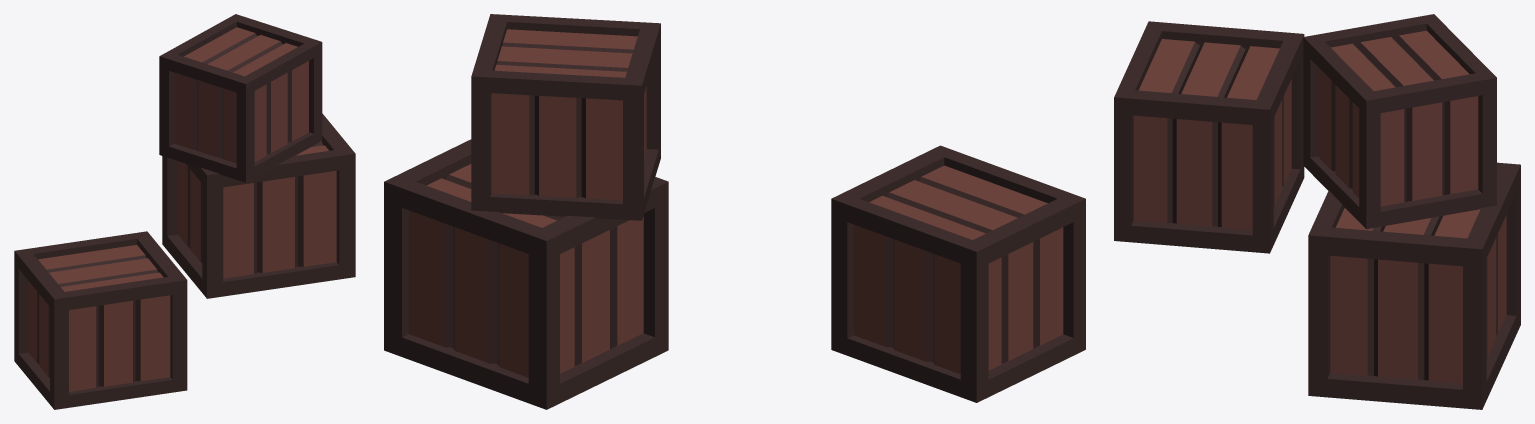
File: oldseamanroom3.fbx
3 renders of one model, left to right at view 1: azimuth 30°, elevation 25°; view 2: azimuth 150°, elevation 25°; view 3: azimuth 270°, elevation 25°, orthographic. The views are drawn at different scales.
Visible parts, largest first — view 1: oldseamanroom3; view 2: oldseamanroom3; view 3: oldseamanroom3.
Boxes of the visible parts, x1,y1,x2,y2 form: oldseamanroom3: [14, 14, 355, 409]; oldseamanroom3: [384, 14, 1085, 409]; oldseamanroom3: [1114, 14, 1520, 409].
Size of the model in its own units: 310 by 170 by 218.
